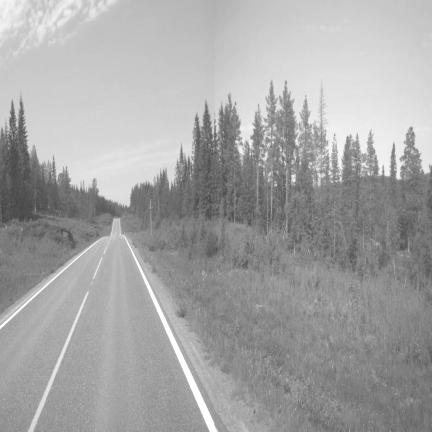Road: (0, 220, 215, 431)
